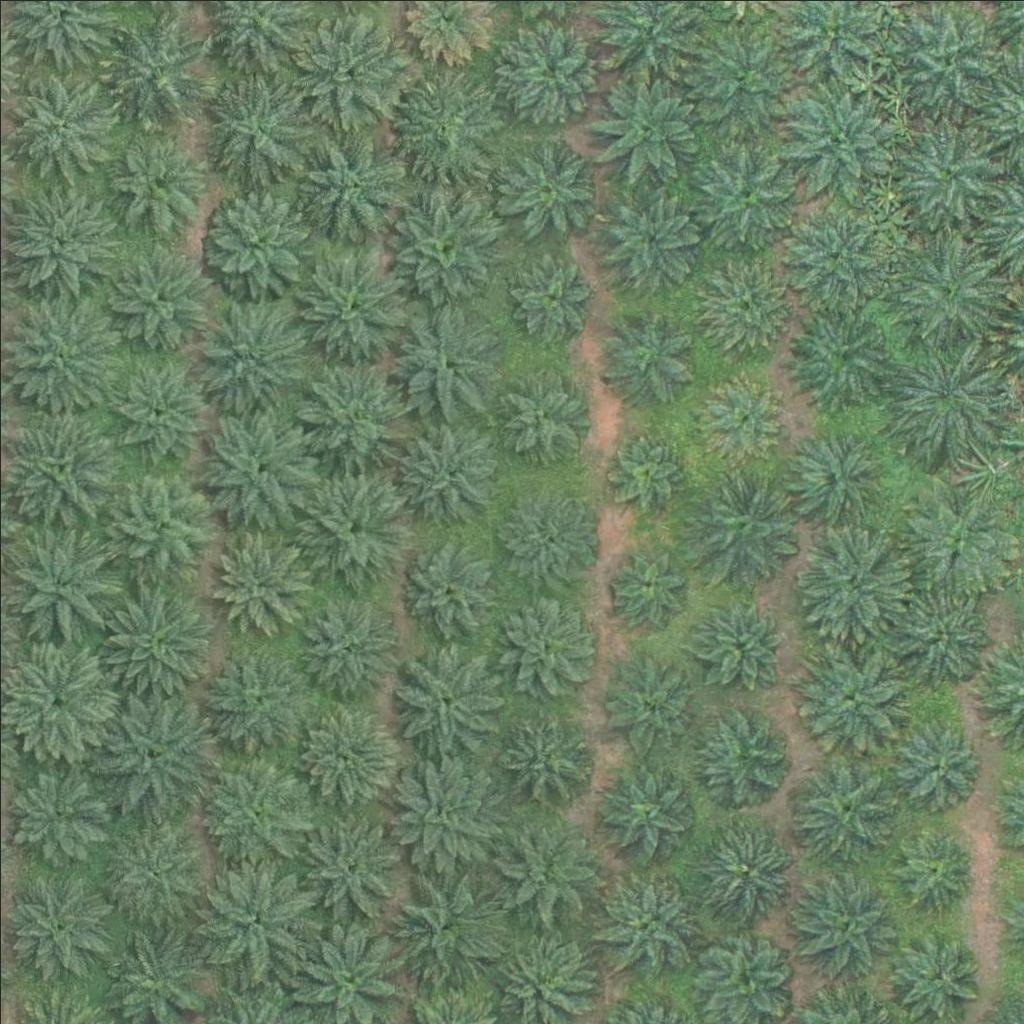Kelapa_Sawit: (784, 300, 897, 414), (779, 195, 892, 309), (687, 141, 800, 255), (681, 15, 794, 129), (589, 70, 702, 184), (106, 469, 219, 583), (1, 411, 114, 525), (1, 293, 114, 407), (2, 531, 115, 644), (98, 813, 211, 926), (93, 694, 206, 807), (100, 582, 213, 695), (196, 860, 309, 973), (391, 758, 504, 871), (391, 642, 504, 755), (393, 530, 506, 643), (789, 870, 902, 983), (783, 755, 896, 868), (392, 417, 505, 530), (386, 304, 499, 417), (386, 190, 499, 303), (296, 249, 409, 362), (294, 123, 407, 236), (291, 13, 404, 126), (5, 181, 118, 294), (3, 866, 115, 980), (800, 528, 912, 642), (883, 578, 995, 692), (886, 337, 998, 451), (890, 233, 1002, 347), (777, 82, 889, 196), (196, 754, 308, 867), (198, 641, 310, 754), (294, 812, 406, 925), (388, 864, 500, 977), (586, 864, 698, 977), (791, 639, 903, 752), (684, 464, 796, 577), (386, 68, 498, 181), (301, 471, 413, 584), (298, 355, 410, 468), (199, 411, 311, 524), (193, 299, 305, 412), (199, 187, 311, 300), (204, 74, 316, 187), (100, 244, 212, 357), (103, 14, 215, 127), (207, 534, 307, 635), (299, 702, 399, 803), (294, 596, 394, 697), (499, 819, 599, 920), (497, 706, 597, 807), (596, 759, 696, 860), (699, 824, 799, 925), (693, 710, 793, 811), (886, 713, 986, 814), (897, 126, 997, 227), (902, 13, 1002, 114), (784, 426, 884, 527), (594, 310, 694, 411), (599, 185, 699, 286), (493, 360, 593, 461), (500, 137, 600, 238), (103, 133, 203, 234), (4, 761, 104, 861), (496, 591, 596, 691), (496, 487, 596, 587), (598, 655, 698, 755), (906, 490, 1006, 590), (500, 22, 600, 122), (108, 356, 208, 456), (891, 929, 979, 1017), (888, 823, 976, 911), (699, 370, 787, 458), (598, 430, 686, 518), (508, 254, 596, 342), (698, 601, 785, 689), (700, 265, 787, 353), (611, 547, 686, 623)
